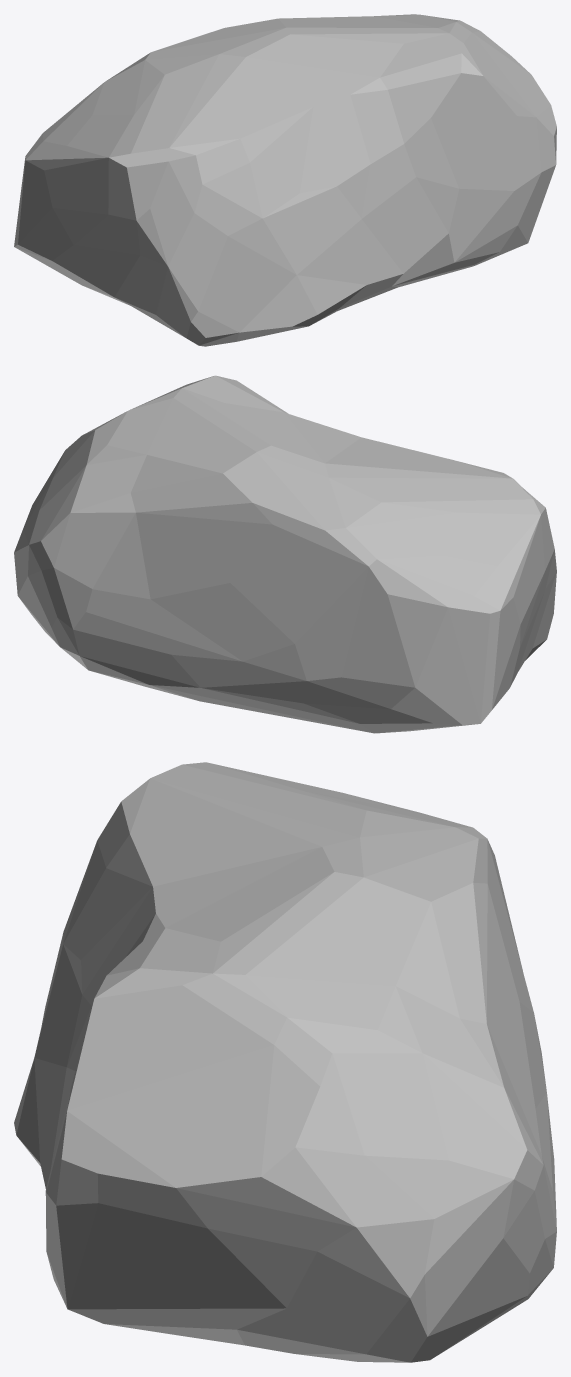
Rendered from Rock_3.fbx.
3 views of the same model, one above another, from view 1: azimuth 30°, elevation 25°; view 2: azimuth 150°, elevation 25°; view 3: azimuth 270°, elevation 25° (orthographic). The views are drawn at different scales.
Visible parts, largest first — view 1: Rock_3; view 2: Rock_3; view 3: Rock_3.
Boxes of the visible parts, left/top/right/bottom form: Rock_3: left=14, top=14, right=556, bottom=346; Rock_3: left=14, top=375, right=556, bottom=733; Rock_3: left=14, top=762, right=556, bottom=1362.
Size of the model in its own units: 49.93 by 23.38 by 30.55.
1 material, 1 textured.
